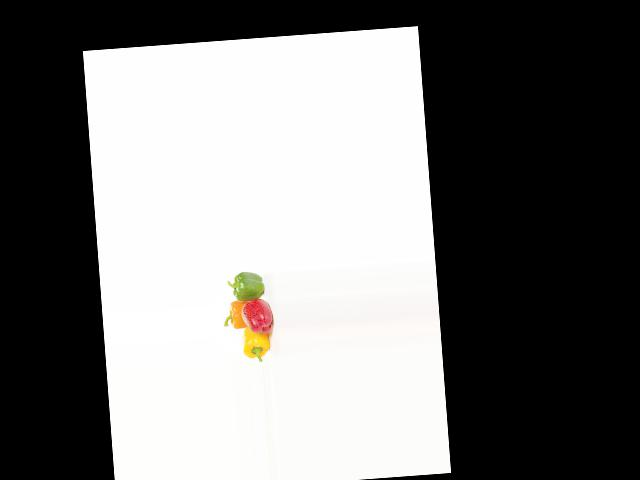bell_pepper: (229, 269, 270, 304)
